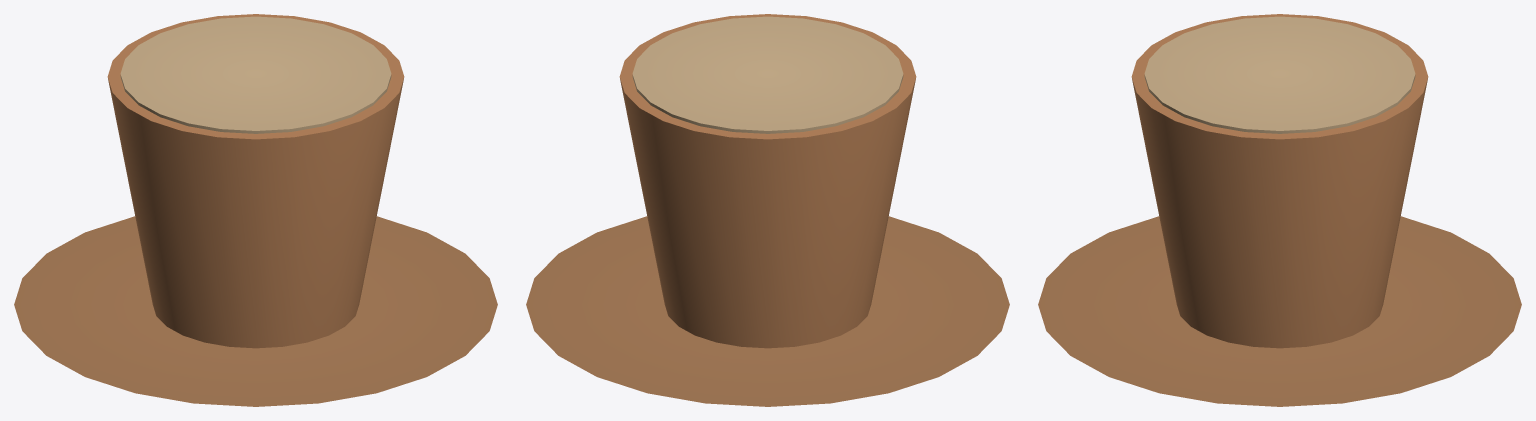
File: masala_chai.glb
3 renders of one model, left to right at view 1: azimuth 30°, elevation 25°; view 2: azimuth 150°, elevation 25°; view 3: azimuth 270°, elevation 25°, orthographic.
Parts seen in each view (by area): view 1: DishModel; view 2: DishModel; view 3: DishModel.
Part boxes in pixels (x1,y1,x2,y2): DishModel: (14, 14, 497, 406); DishModel: (526, 14, 1009, 406); DishModel: (1038, 14, 1521, 406).
Size of the model in its own units: 1.5 by 0.85 by 1.5.
